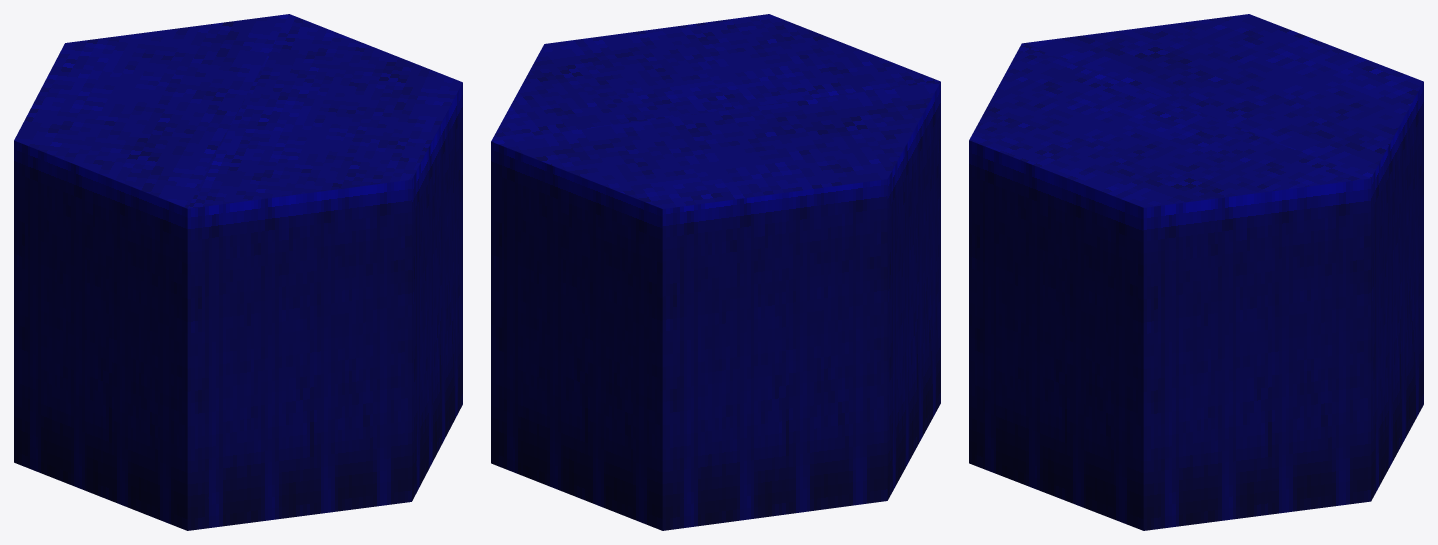
Rendered from primary_027.glb.
The picture shows the model from 3 angles, left to right: view 1: azimuth 30°, elevation 25°; view 2: azimuth 150°, elevation 25°; view 3: azimuth 270°, elevation 25°; orthographic projection.
Visible parts, largest first — view 1: Object; view 2: Object; view 3: Object.
Boxes of the visible parts, x1=… form: Object: x1=14, y1=14, x2=462, y2=530; Object: x1=491, y1=14, x2=940, y2=530; Object: x1=969, y1=14, x2=1423, y2=530.
Size of the model in its own units: 0.1747 by 0.1357 by 0.1732.
Materials: 2 (2 with a texture image).
